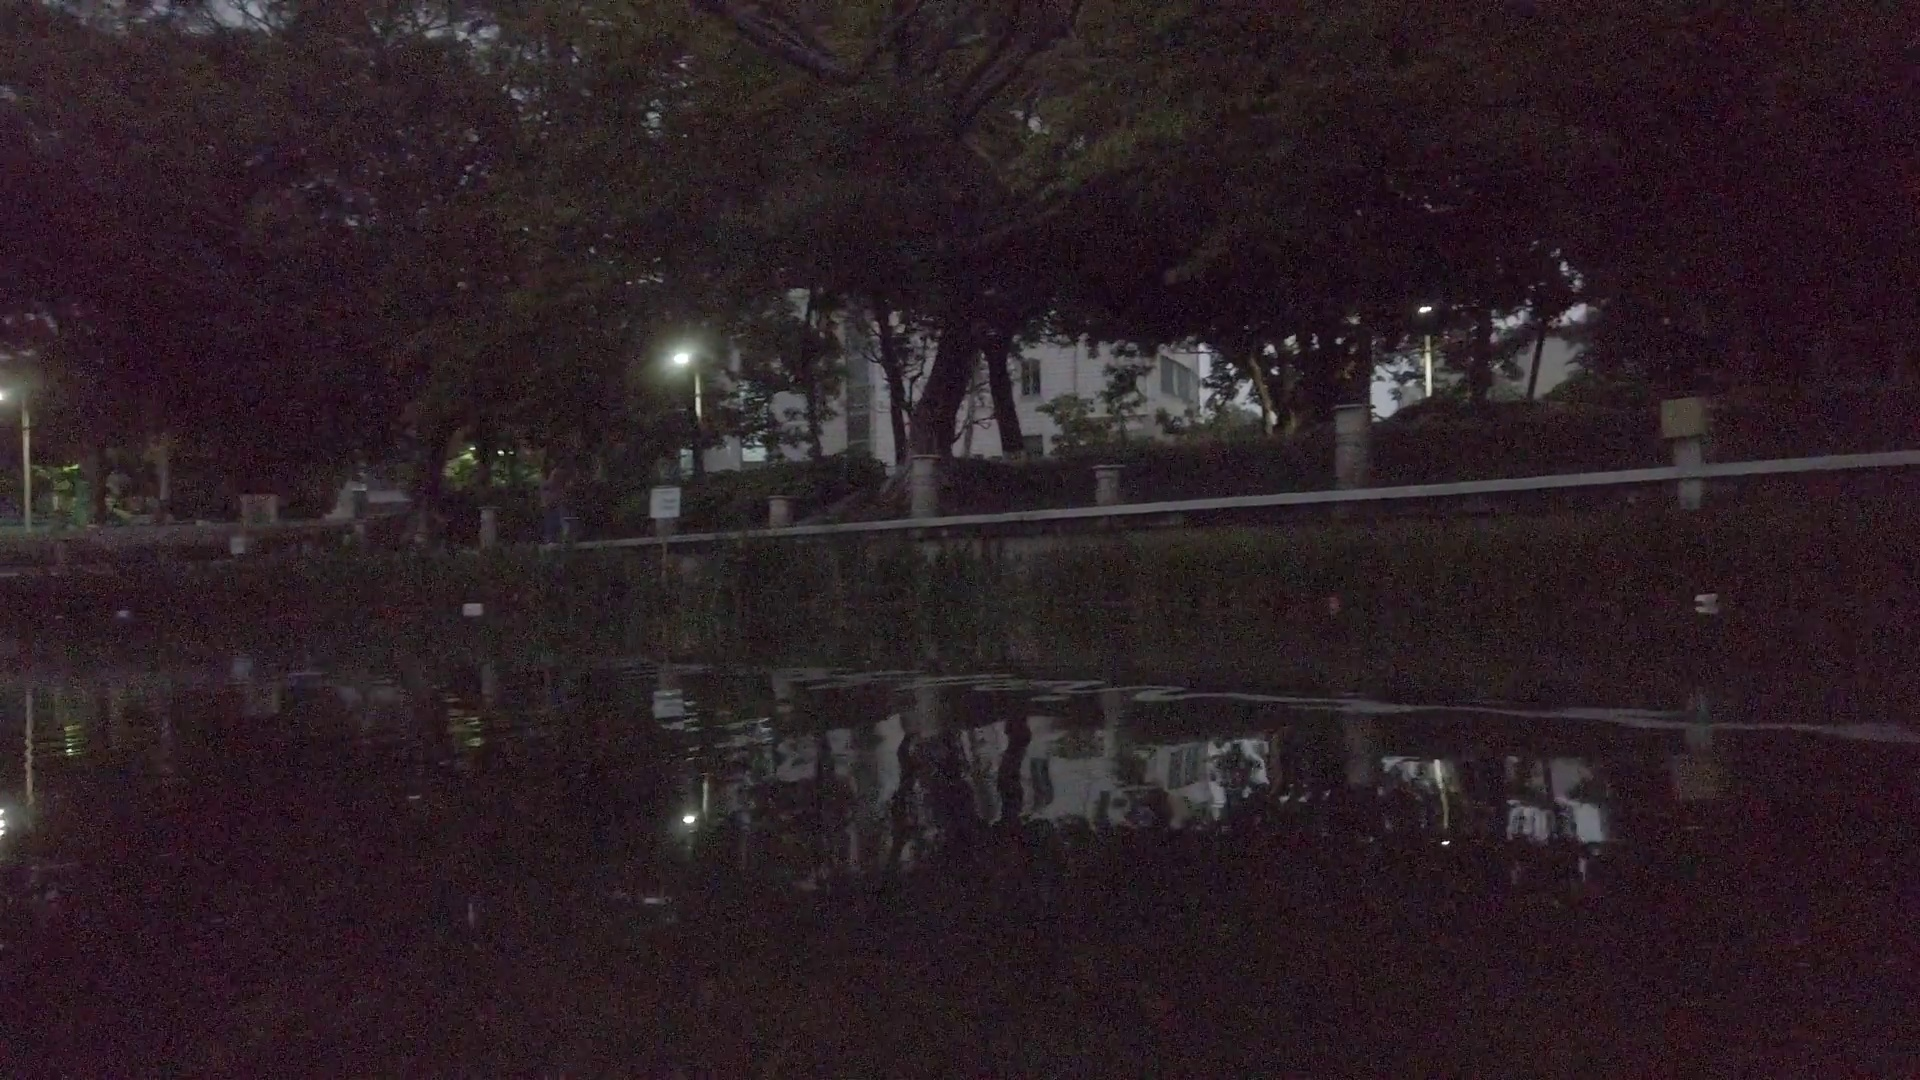bottle: (1313, 593, 1356, 618)
carton: (1695, 593, 1720, 608), (459, 603, 483, 617)
